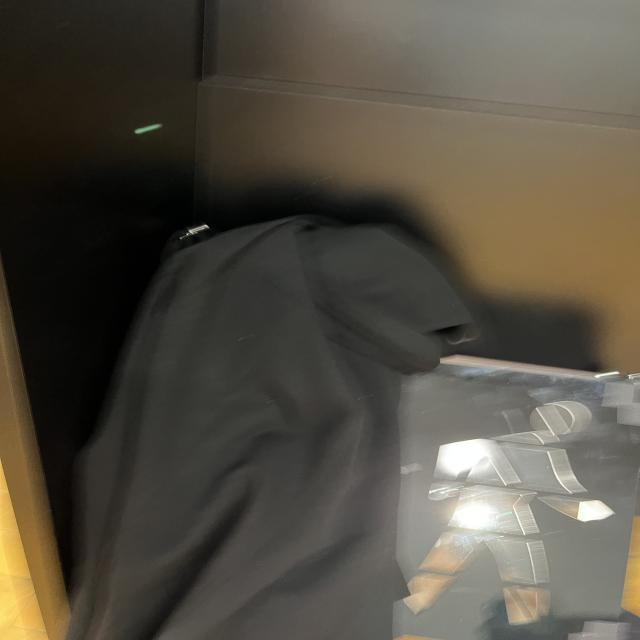go: (415, 357, 640, 640)
